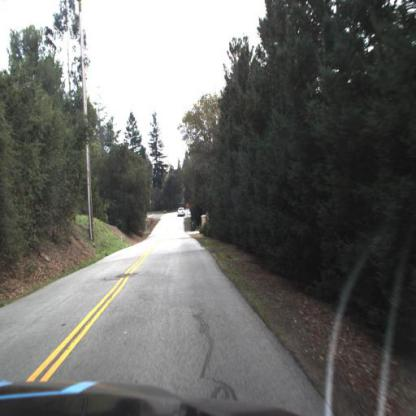car: (177, 203, 187, 223), (177, 206, 187, 223)
